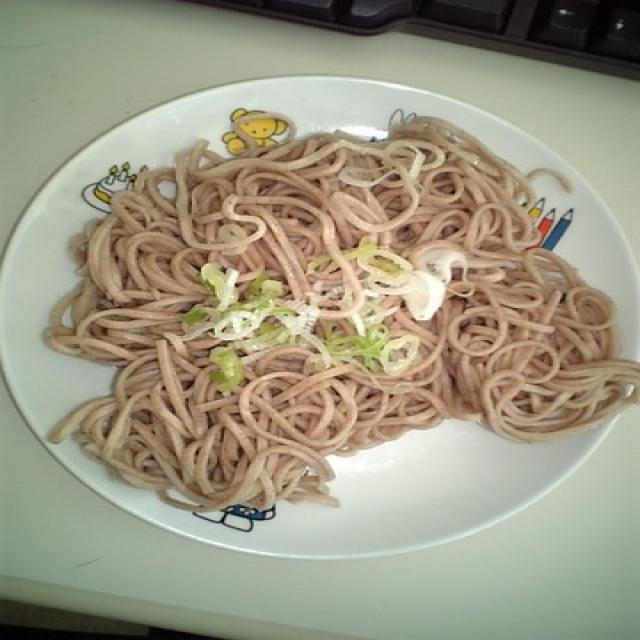面条主食: (21, 133, 640, 550)
